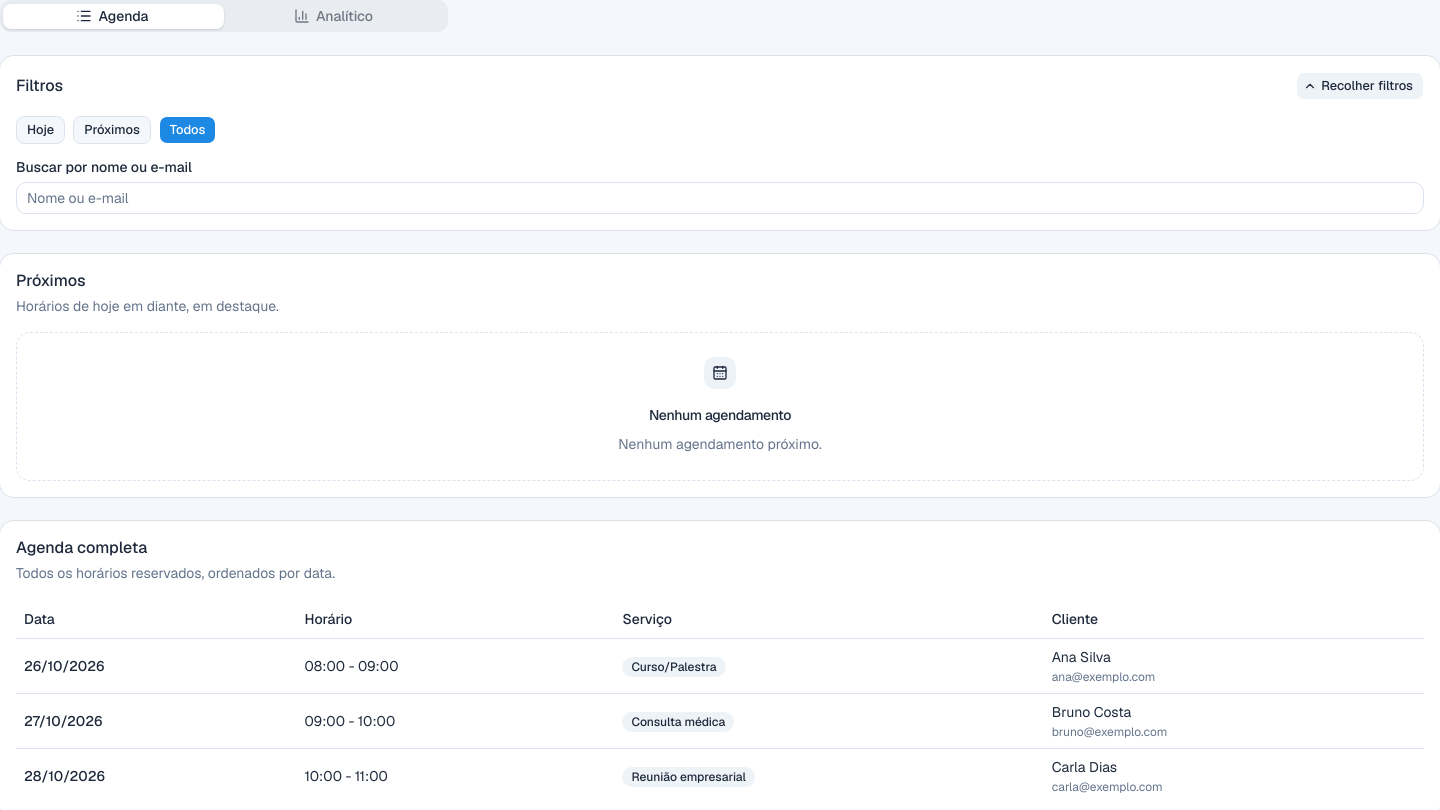
PainelAdmin › vazio quando filtro Hoje não tem itens no dia
Click the button "Hoje" at coordinates (41, 130), box [16,116,65,144]
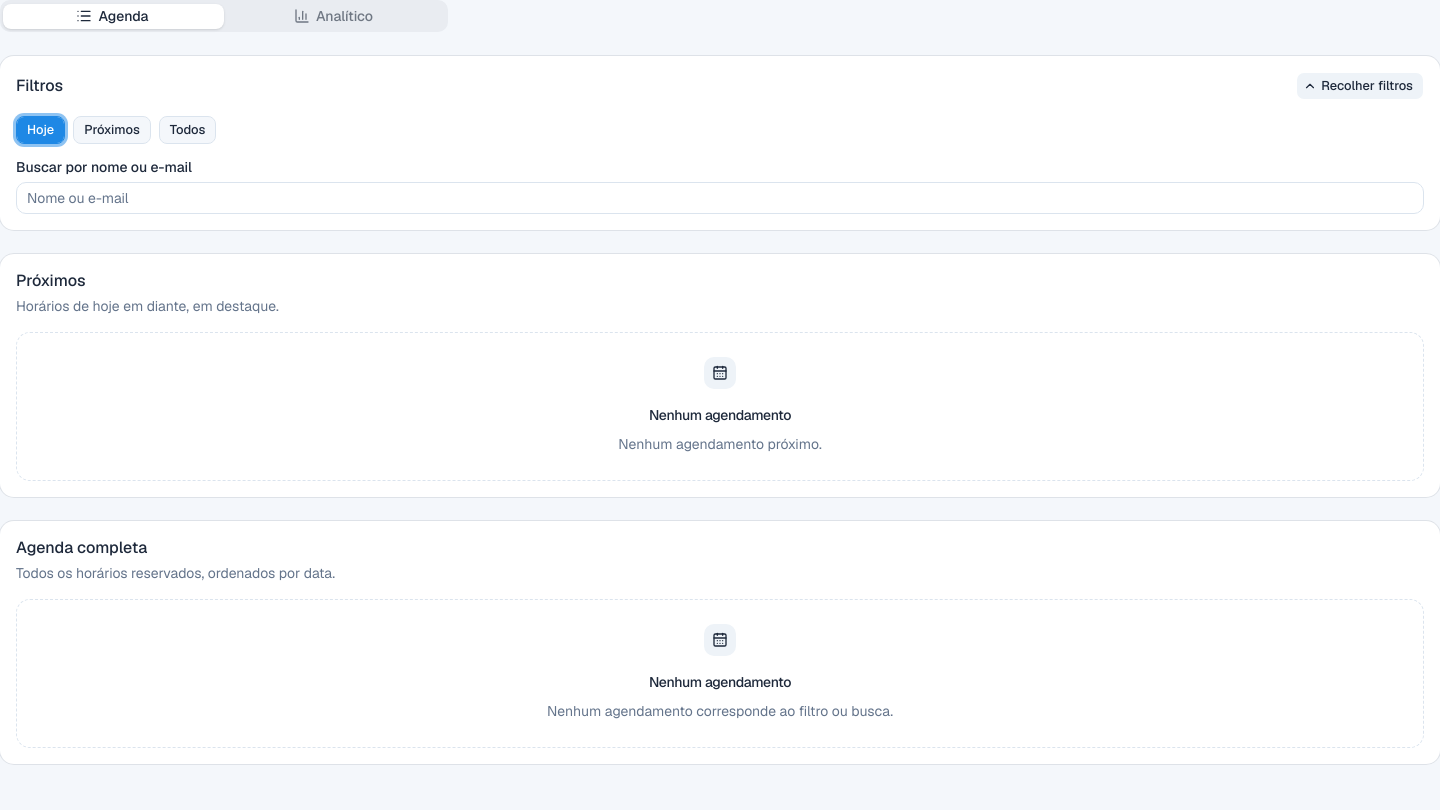
Expected: the text "Nenhum agendamento corresponde ao filtro ou busca." is shown, [547,700,893,723]
